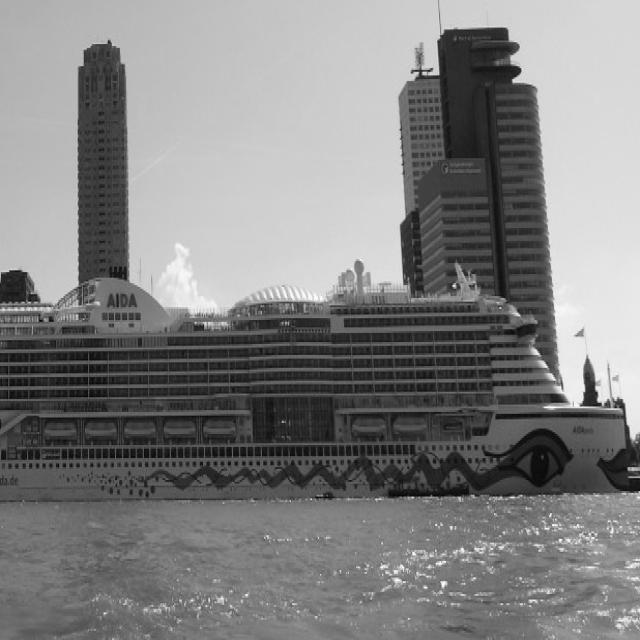cruises: (1, 260, 637, 514)
